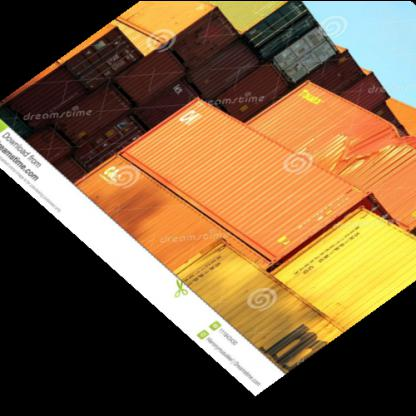Damage: (344, 118, 412, 159)
